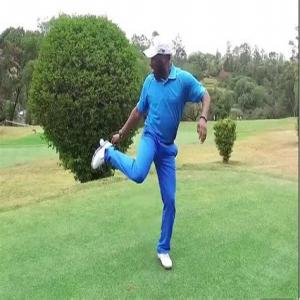Golf: (100, 139, 105, 146)
